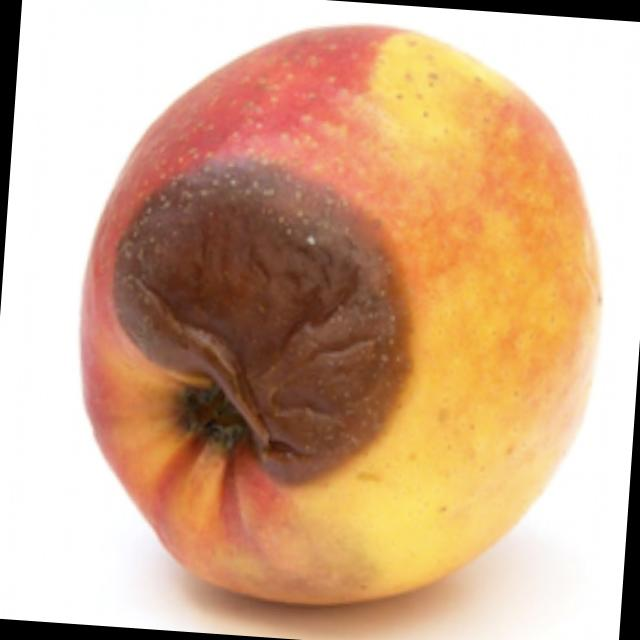rotten_apple: (68, 4, 622, 636)
